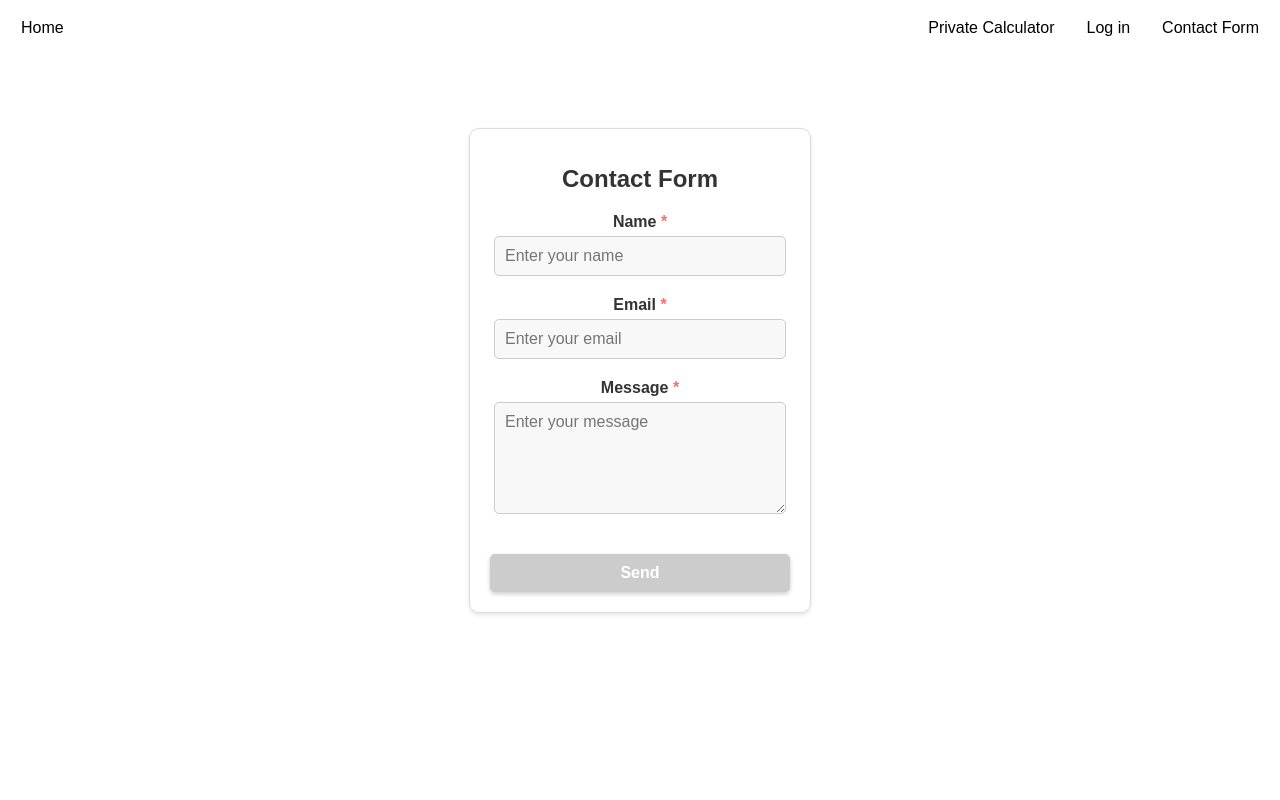
Test: Successful Form Submission › should show success message upon form submission
Note: Fill the form and submit
Type "Jane Doe" into the field with id "name" at (640, 256), box [494,236,786,276]
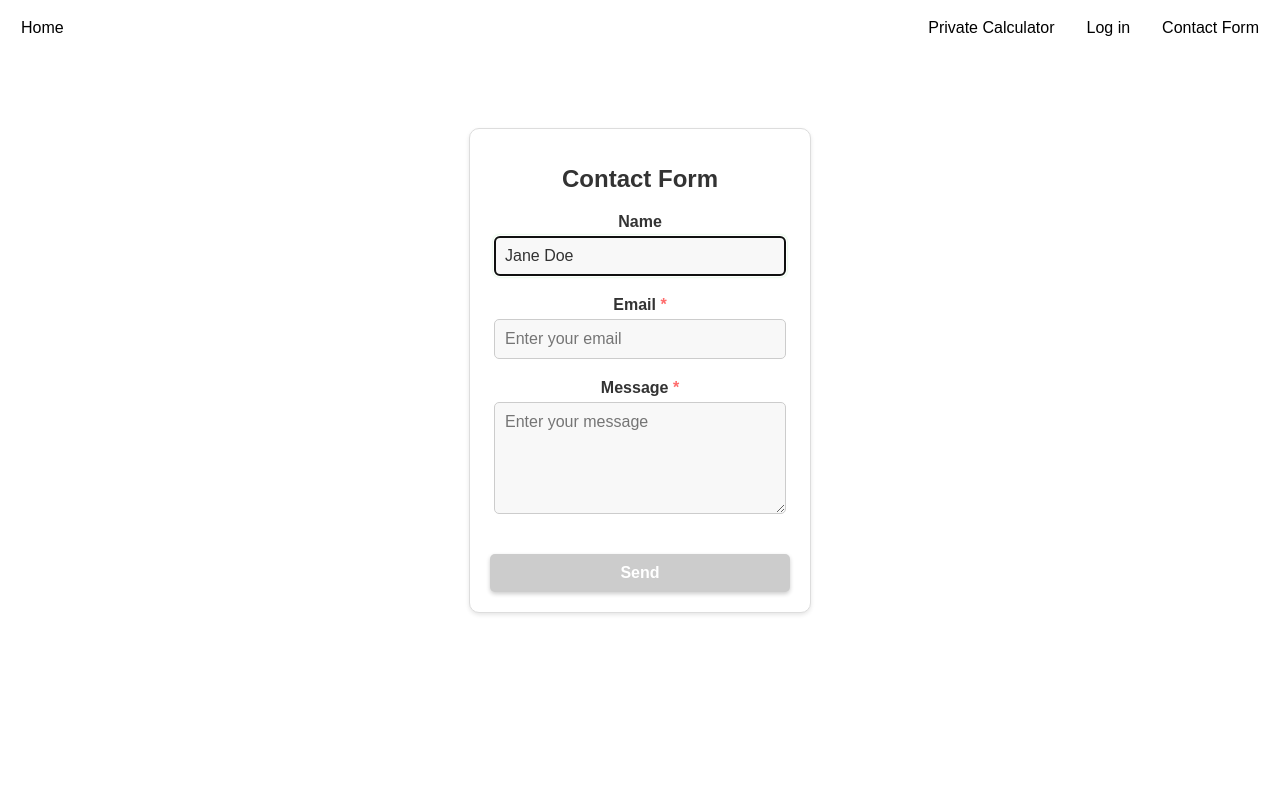
Type "jane@example.com" into the field with id "email" at (640, 339), box [494,319,786,359]
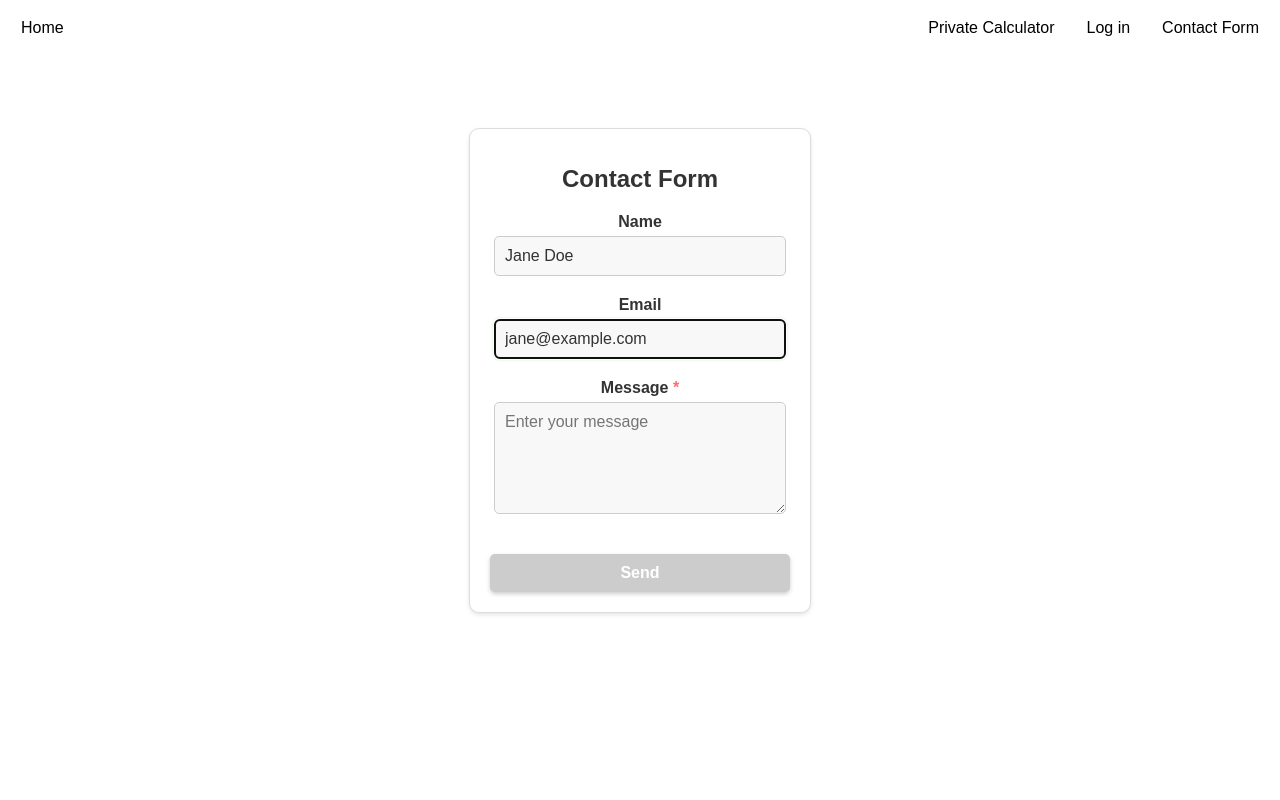
Type "Hello, this is a test message." into the text box with id "message" at (640, 458), box [494,402,786,514]
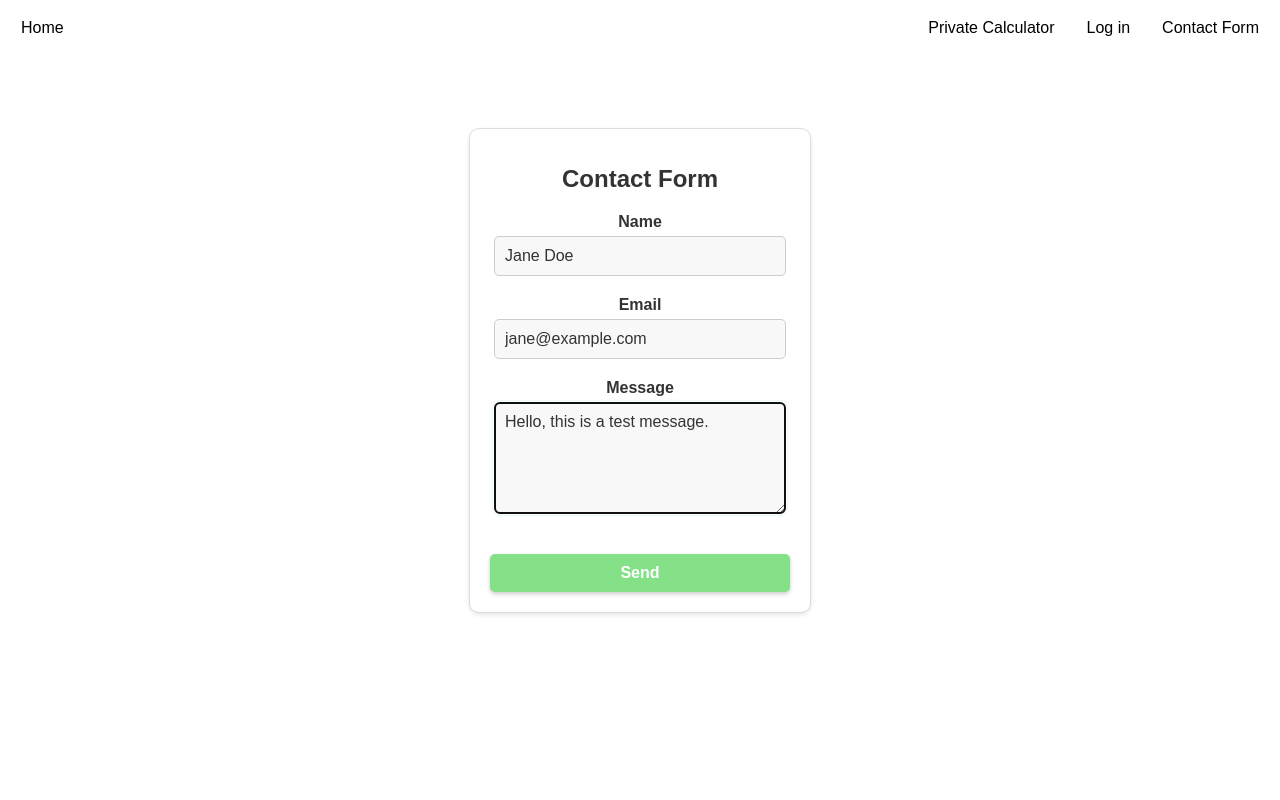
Click the button with id "send-button" at (640, 573), box [490,554,790,592]
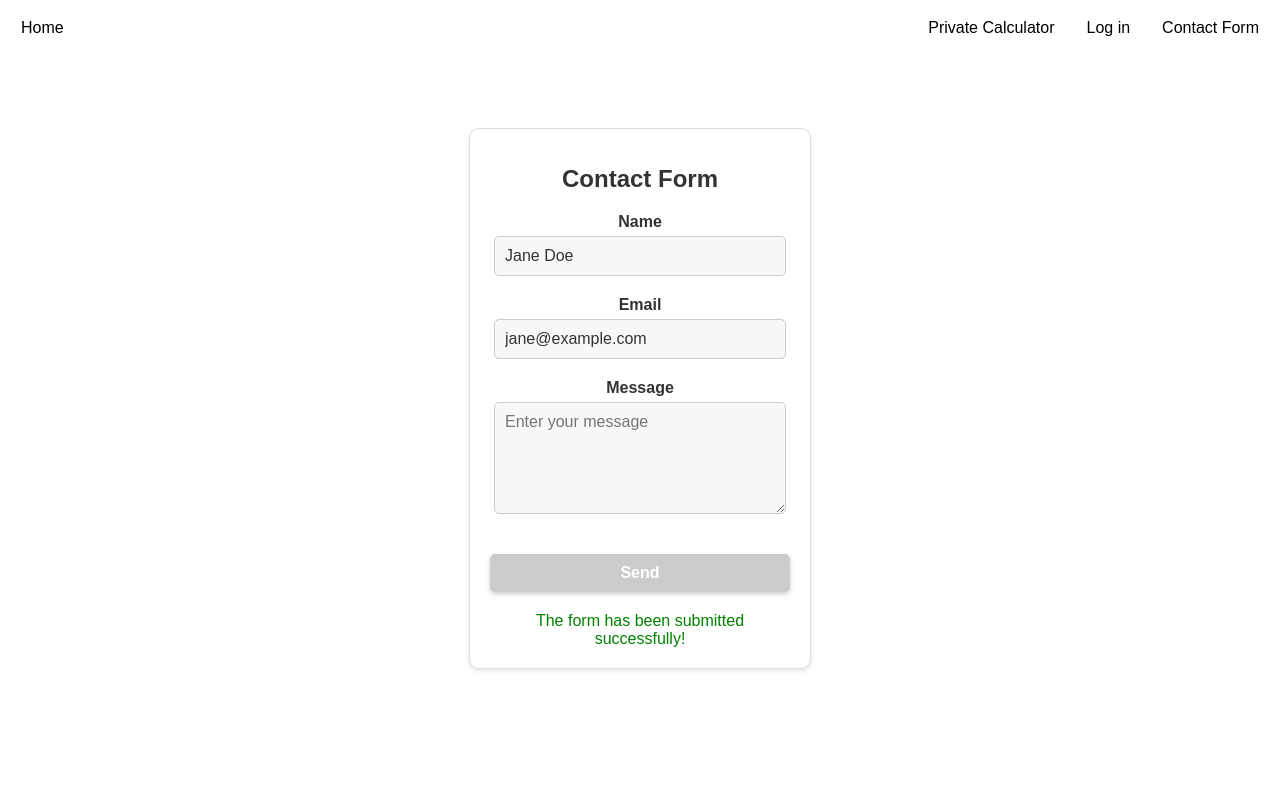
Expected: the text "The form has been submitted successfully!" is shown, [536,612,744,647]
